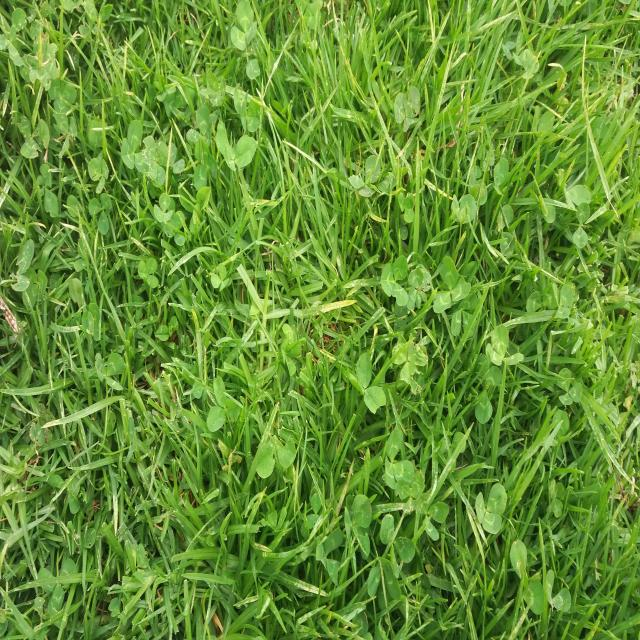Four Leaf Clover: (142, 135, 168, 188), (234, 85, 261, 132), (407, 267, 432, 310)
